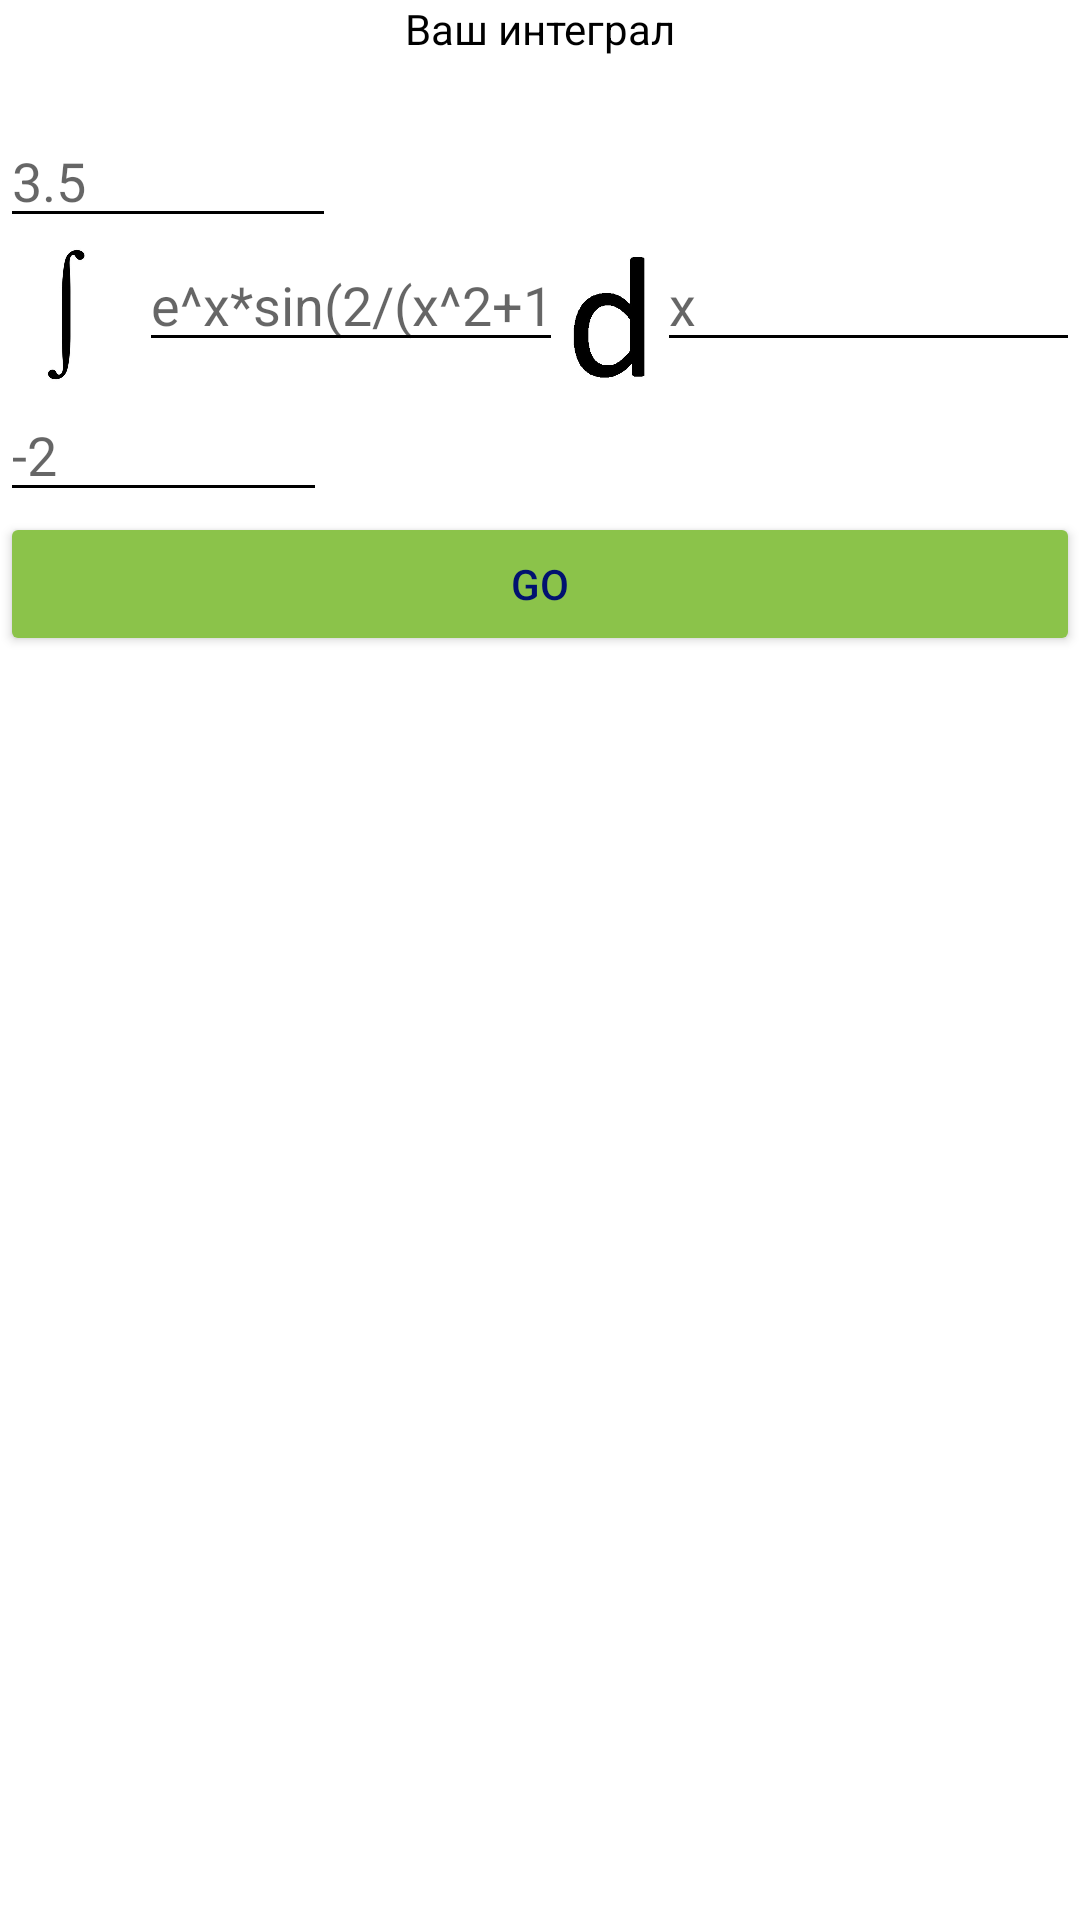

Named icons in this screenshot (1080 x 1920) and their centers, (x=x, y=y):
integr: (x=66, y=314)
